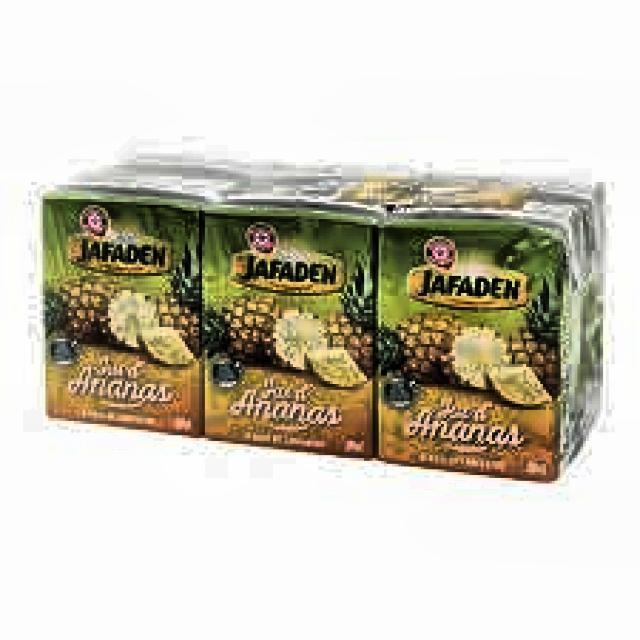cardboard: (40, 165, 606, 480)
